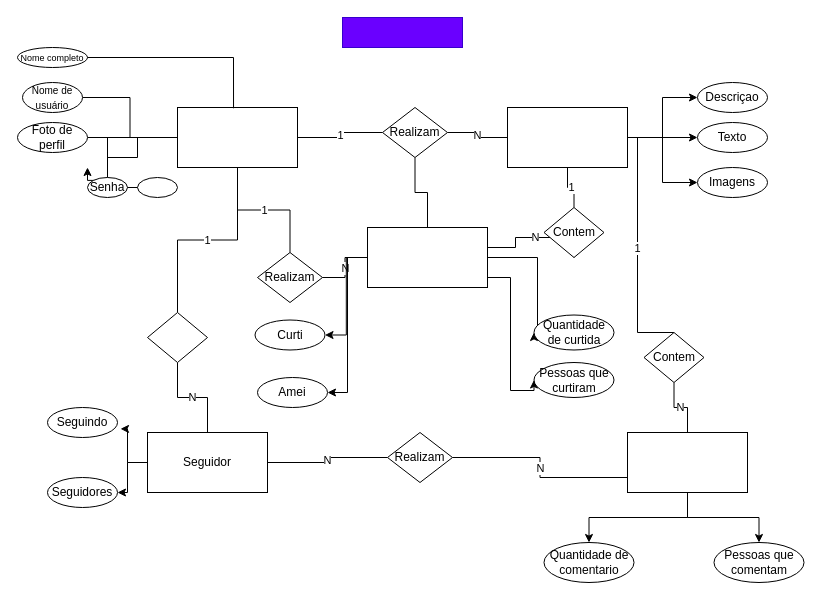
Some shapes in this 822 by 600 pixel diagram are drawn without their labels. Each missing label, with the centre of its shape:
"Comentario" goes at (687,462).
"Curtida" goes at (427,257).
"DER-Devcoonect" goes at (402,32).
"Email" goes at (157,187).
"Postagem" goes at (567,137).
"Tem" goes at (177,337).
"Usuário" goes at (237,137).
